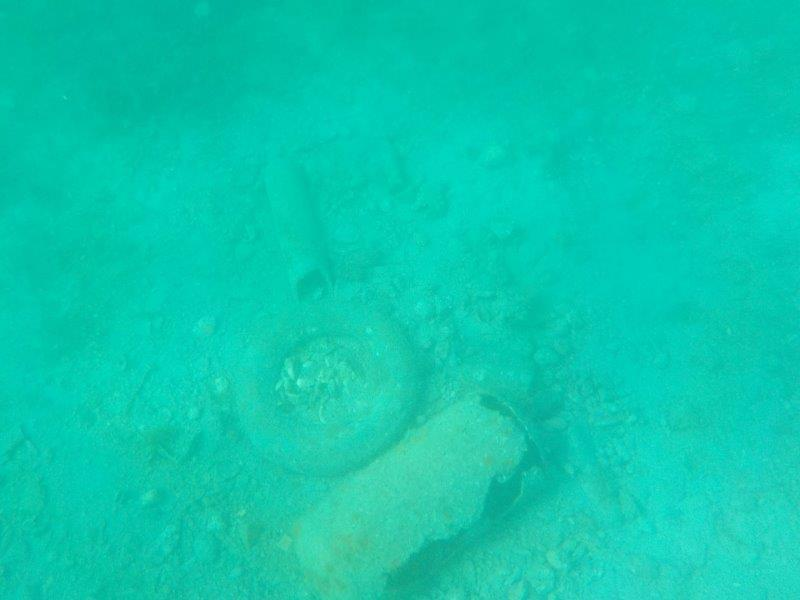bottle: (441, 350, 544, 403)
tire: (224, 286, 432, 486)
